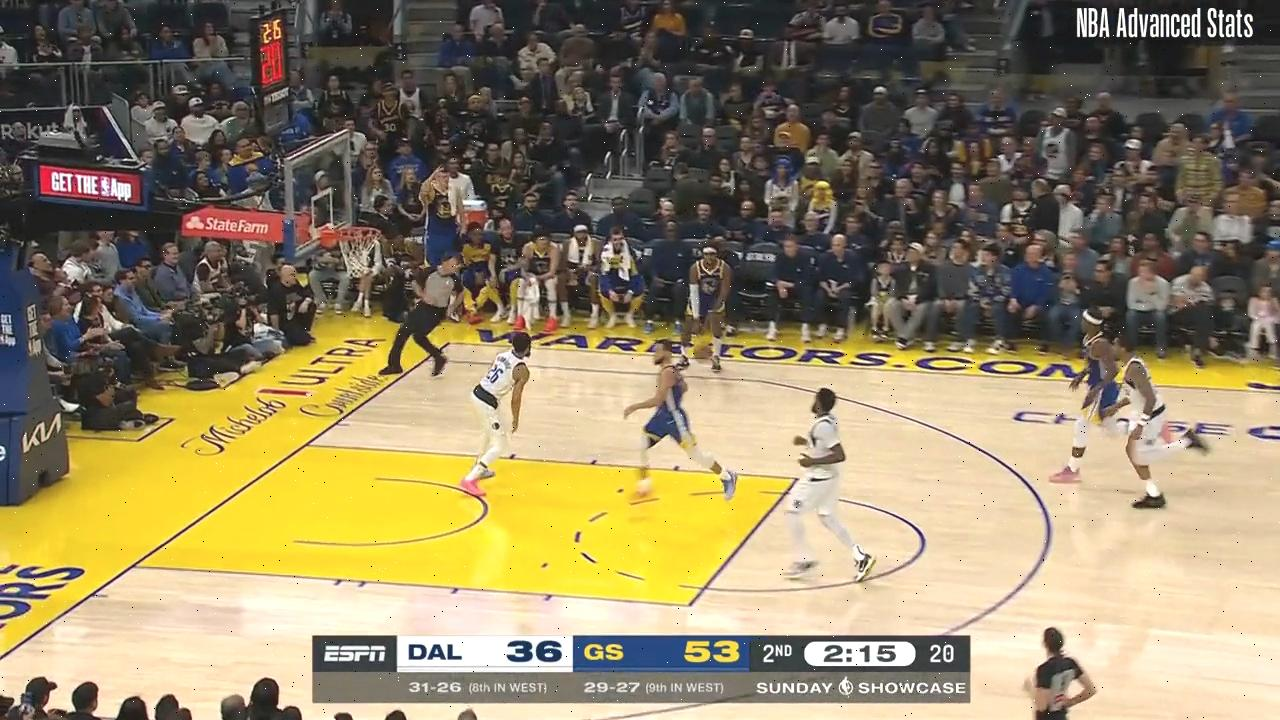basketball: (694, 340, 712, 363)
